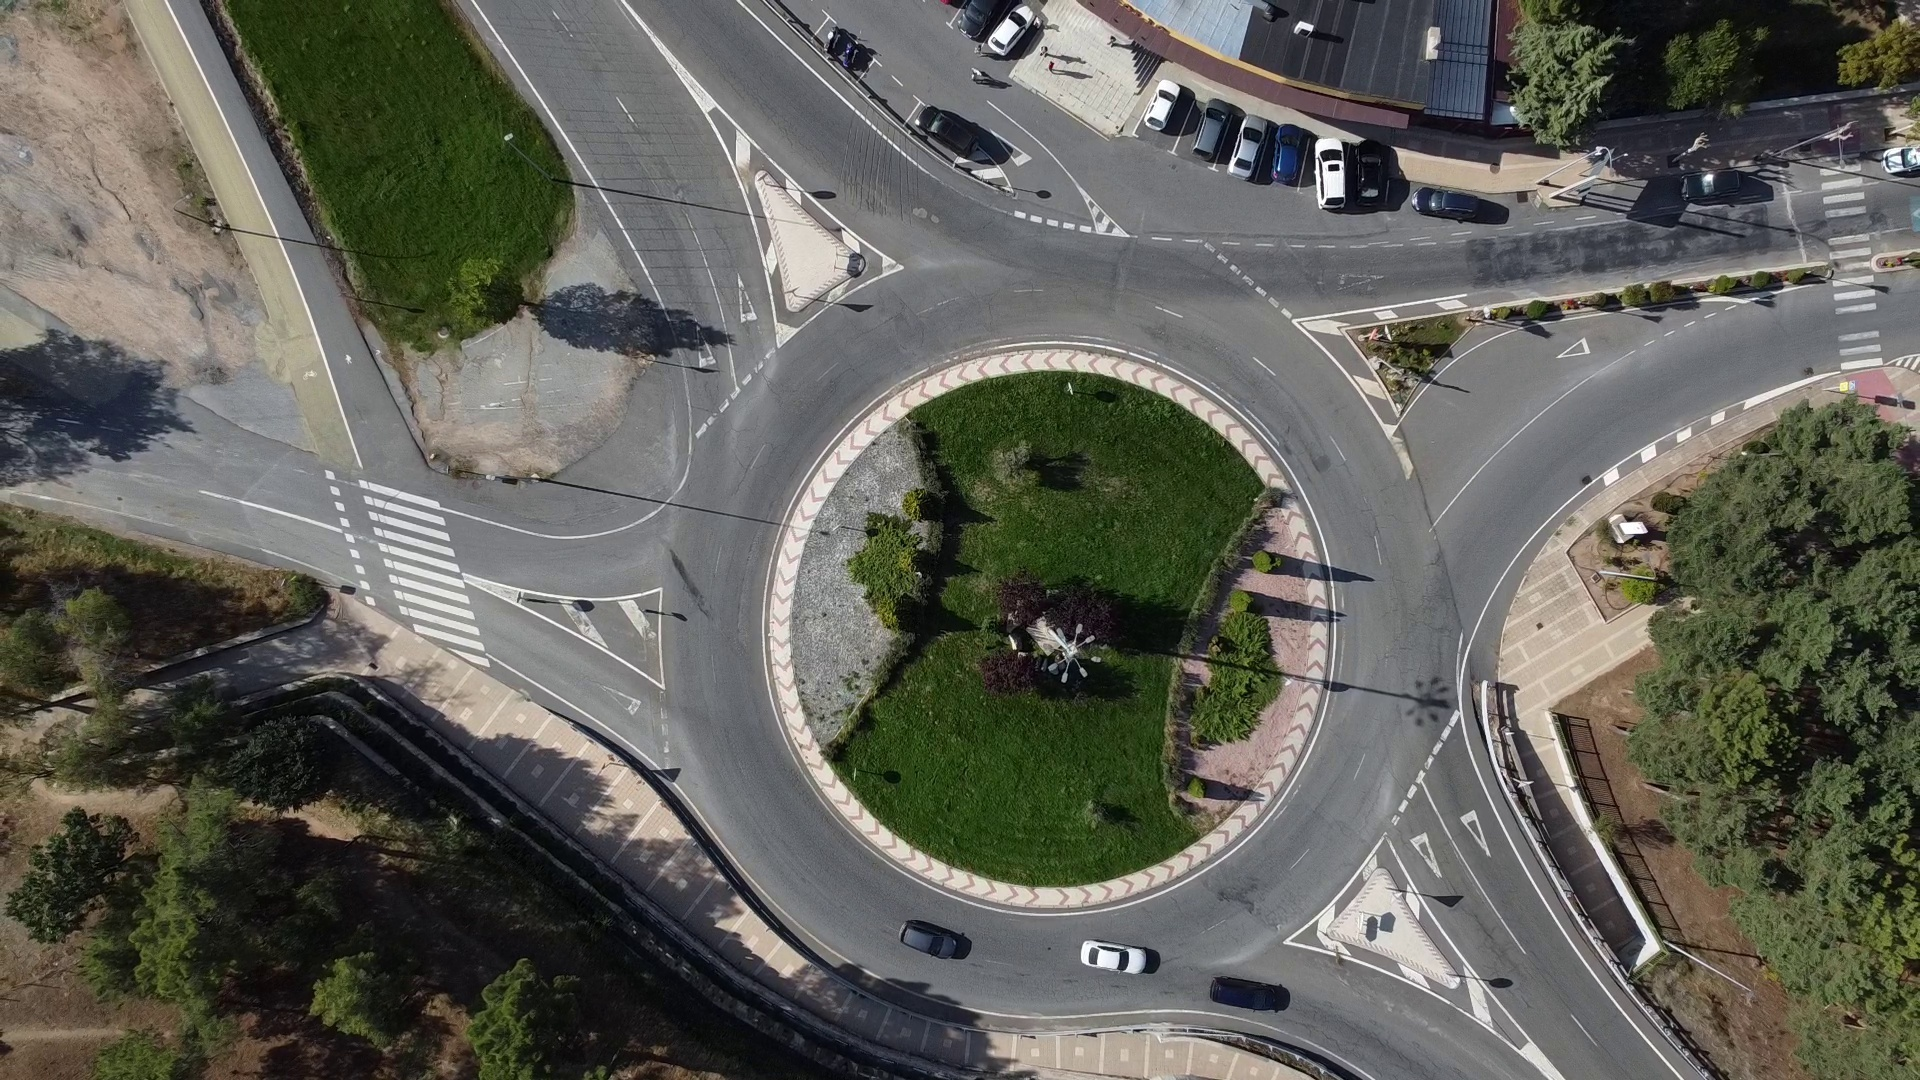cycle: (843, 36, 858, 70), (824, 24, 840, 57)
vehicle: (914, 105, 978, 158), (1224, 112, 1269, 183), (982, 3, 1036, 61), (894, 916, 963, 961), (1075, 936, 1150, 977), (1205, 972, 1280, 1011), (1309, 135, 1346, 214), (1404, 183, 1478, 222), (1187, 99, 1232, 161), (1352, 138, 1386, 208), (1676, 166, 1745, 200), (1139, 76, 1182, 132), (1267, 121, 1302, 186), (957, 1, 1001, 42), (1879, 144, 1919, 174)
